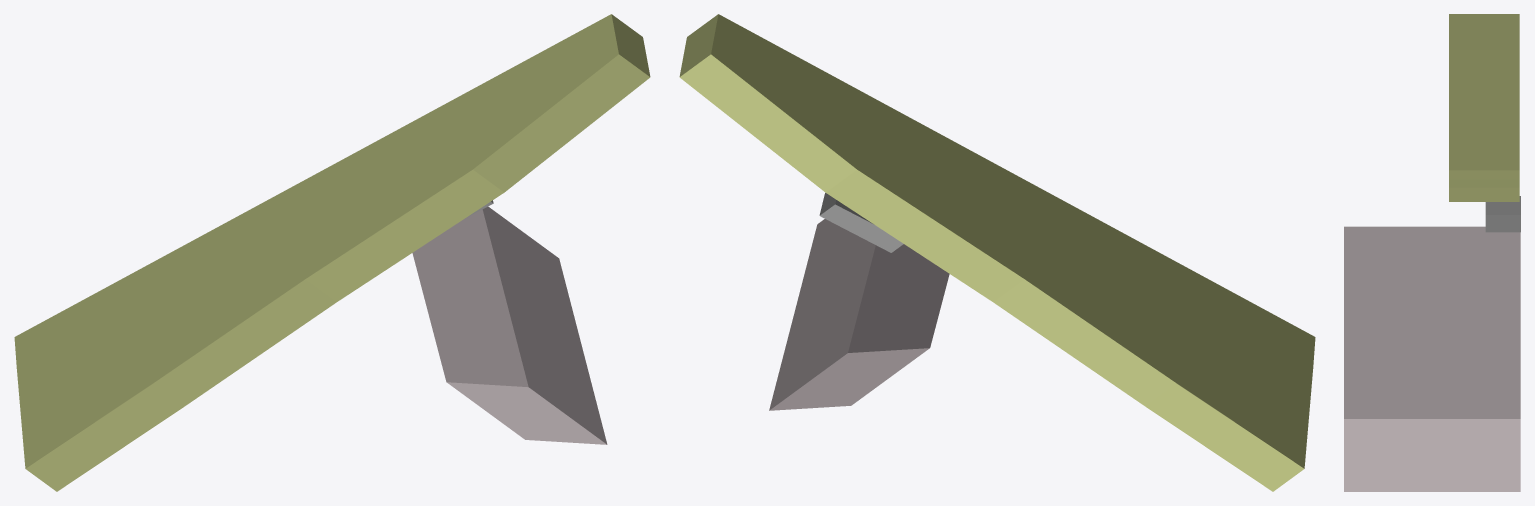
3 views of the same model, side by side, from view 1: azimuth 30°, elevation 25°; view 2: azimuth 150°, elevation 25°; view 3: azimuth 270°, elevation 25° (orthographic). The views are drawn at different scales.
Parts seen in each view (by area): view 1: 0_1_2_3_3_3_0; view 2: 0_1_2_3_3_3_0; view 3: 0_1_2_3_3_3_0.
Boxes of the visible parts, x1,y1,x2,y2 form: 0_1_2_3_3_3_0: (14, 14, 650, 491); 0_1_2_3_3_3_0: (679, 14, 1315, 491); 0_1_2_3_3_3_0: (1344, 14, 1520, 491).
Size of the model in its own units: 66.4 by 37.09 by 15.03.
